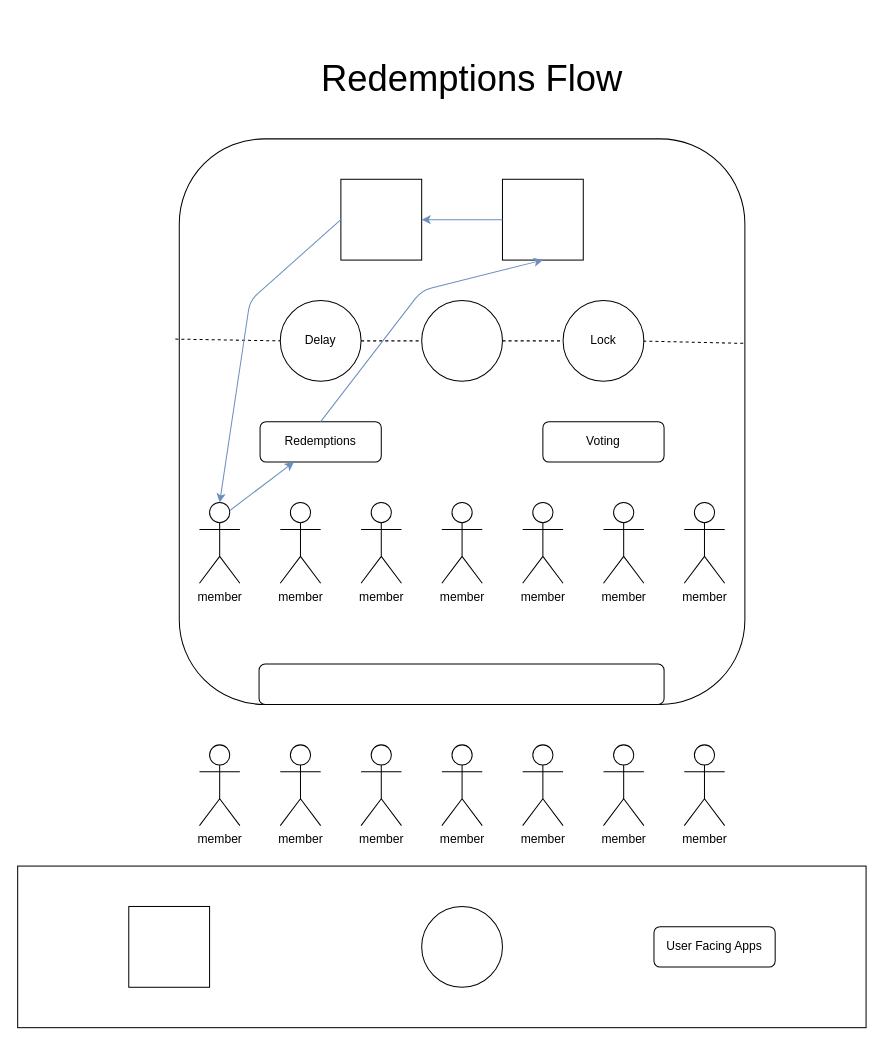
Some shapes in this 884 by 1045 pixel diagram are drawn without their labels. Each missing label, with the centre of its shape:
"Backend Apps" belongs at [169,946].
"Permission Checkers" belongs at [461,946].
"Token Manager 🔥" belongs at [542,219].
"Token Request" belongs at [461,683].
"Vault" belongs at [381,219].
"Voting and Dissent Oracle" belongs at [461,340].
